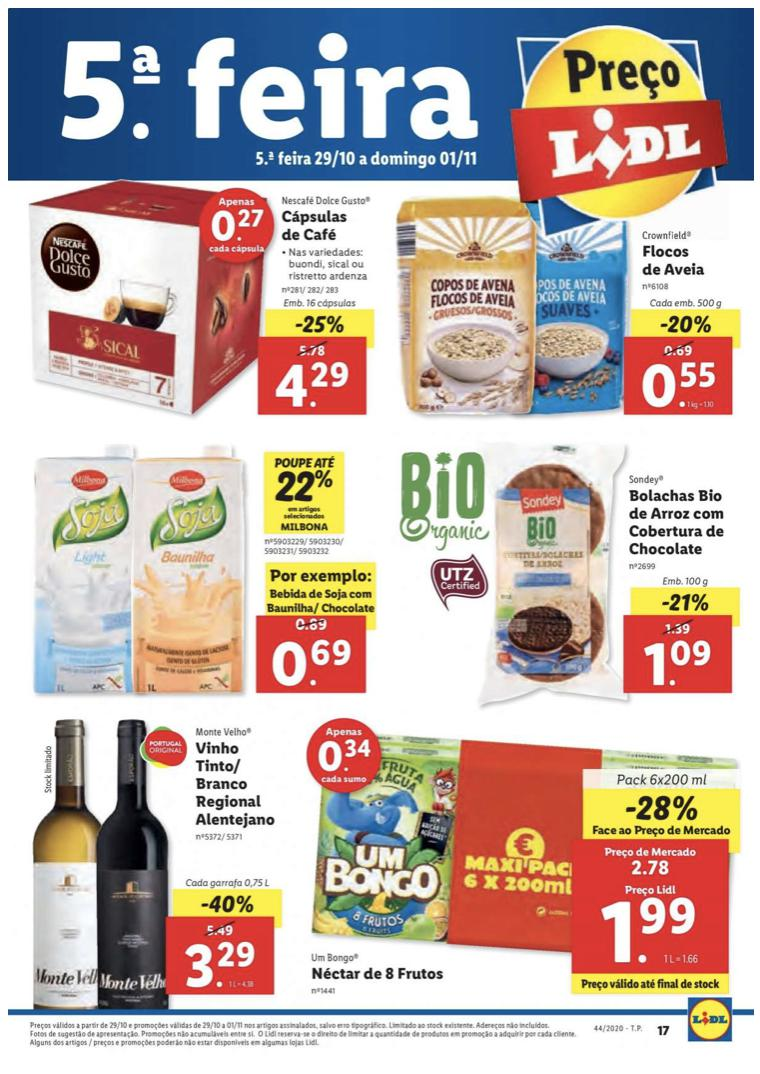name: (620, 486, 732, 557), (191, 741, 280, 826), (276, 209, 356, 244), (635, 241, 712, 277)
price: (575, 878, 732, 970), (256, 632, 371, 696), (623, 634, 732, 692), (260, 357, 364, 414), (173, 937, 269, 992), (639, 357, 723, 414)
product: (303, 712, 751, 1002), (16, 434, 391, 701), (393, 440, 739, 702), (17, 181, 381, 420), (387, 184, 735, 430), (13, 709, 291, 1014)
promotion: (591, 789, 735, 837), (264, 453, 341, 534), (195, 888, 260, 920), (649, 589, 719, 616), (656, 310, 717, 338), (291, 309, 349, 337)
